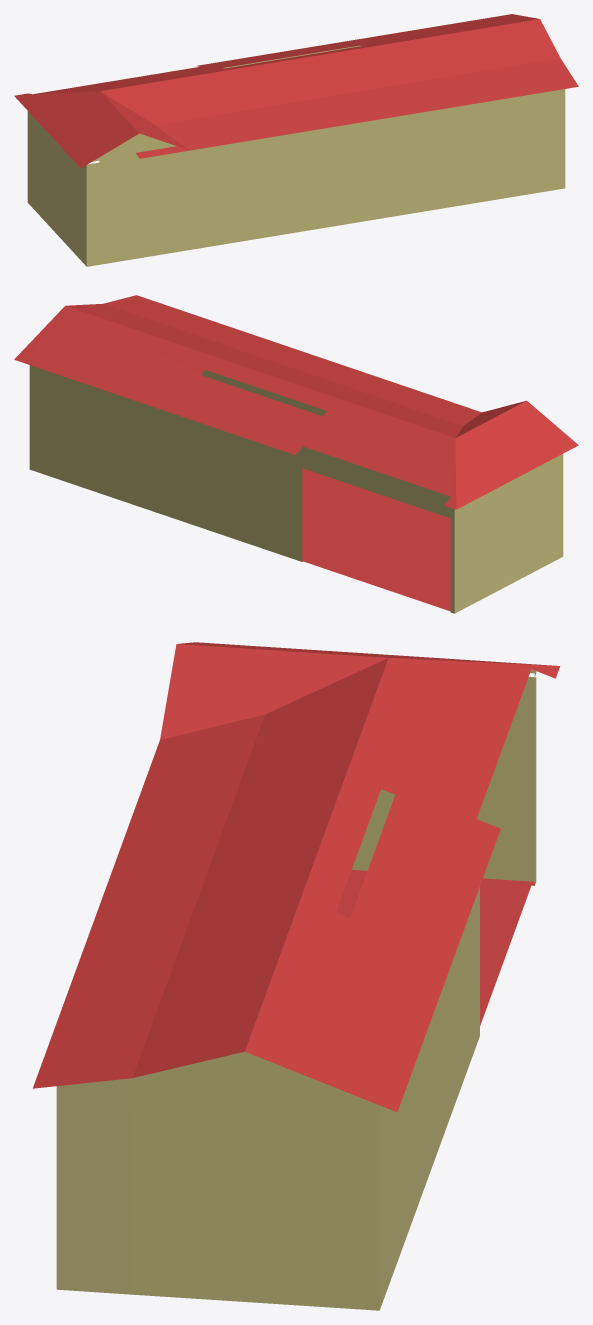
The picture shows the model from 3 angles, top to bottom: view 1: azimuth 30°, elevation 25°; view 2: azimuth 150°, elevation 25°; view 3: azimuth 270°, elevation 25°; orthographic projection. The views are drawn at different scales.
Size of the model in its own units: 26.31 by 12.48 by 6.77.
